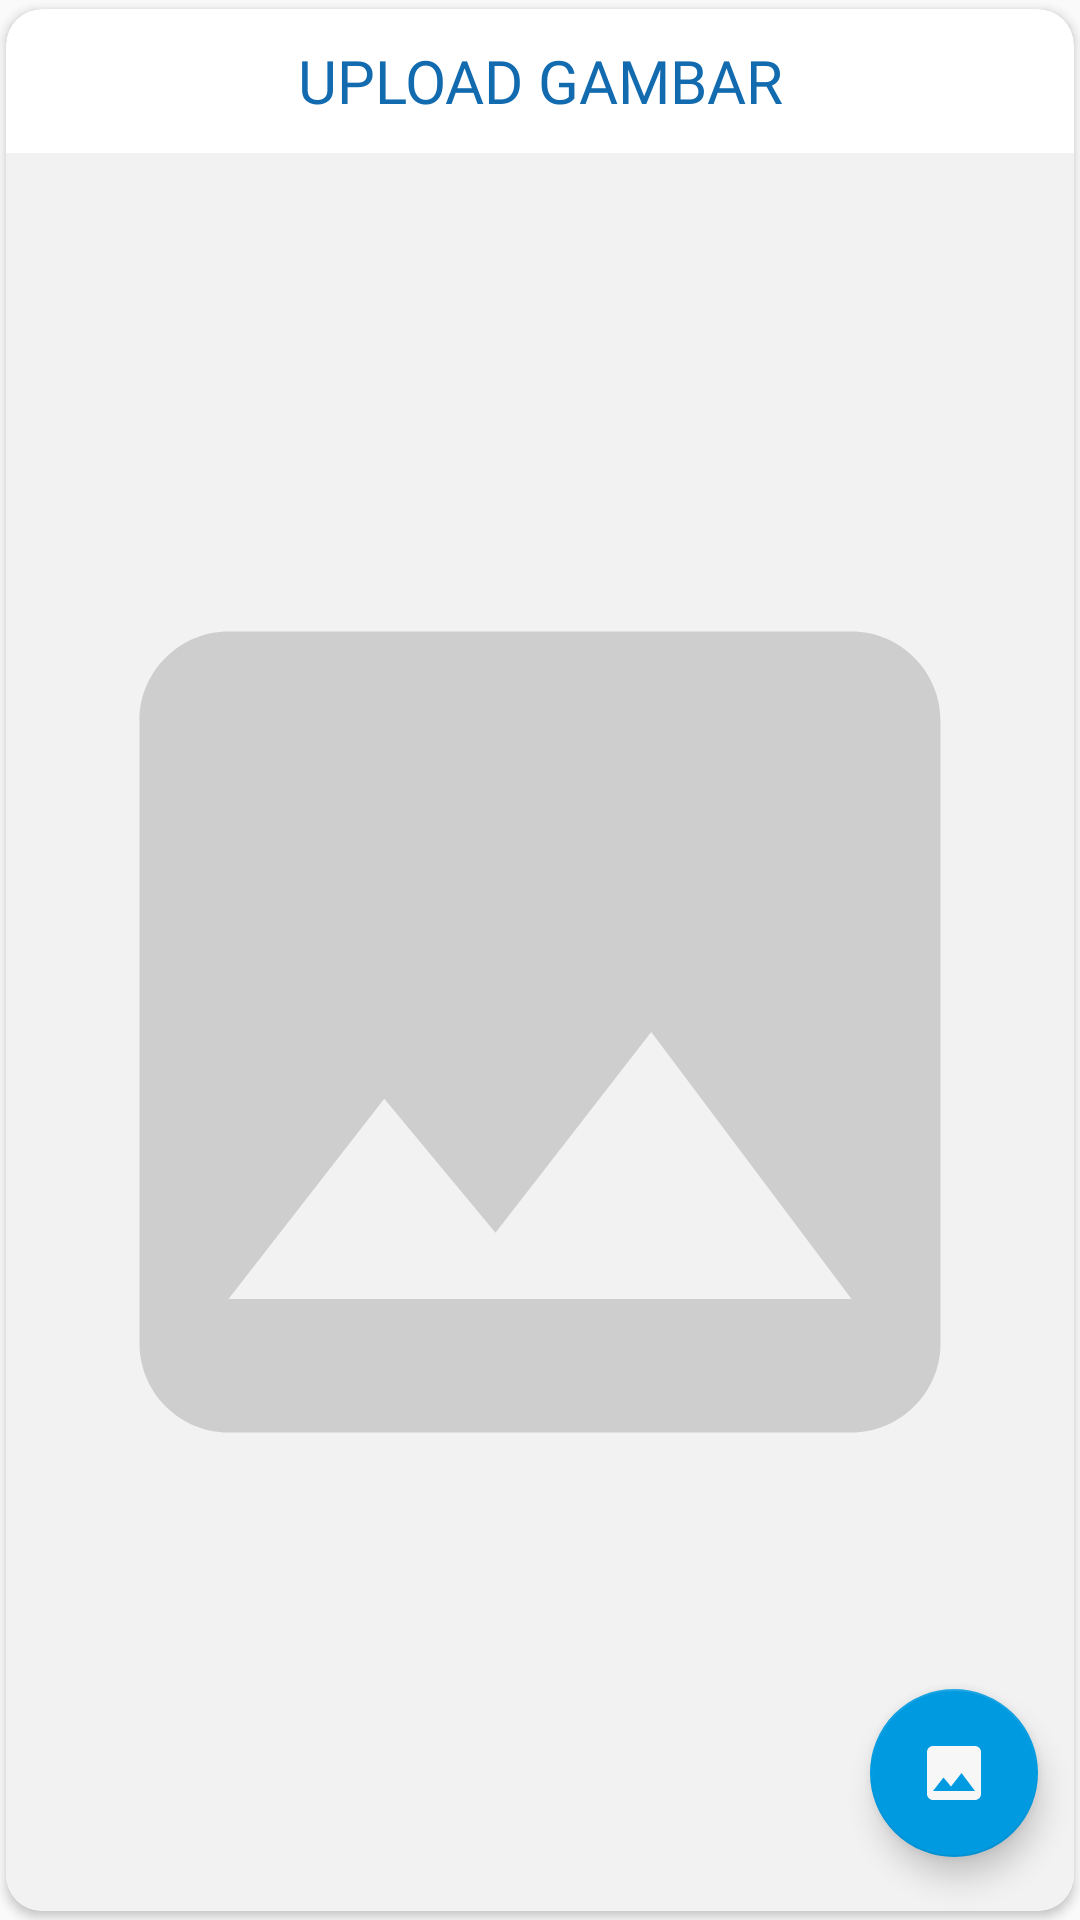

Named icons in this screenshot (1080w x 1920h) and their bounding boxes, (x1, y1, x2, y2):
upload file: (870, 1689, 1040, 1874)
